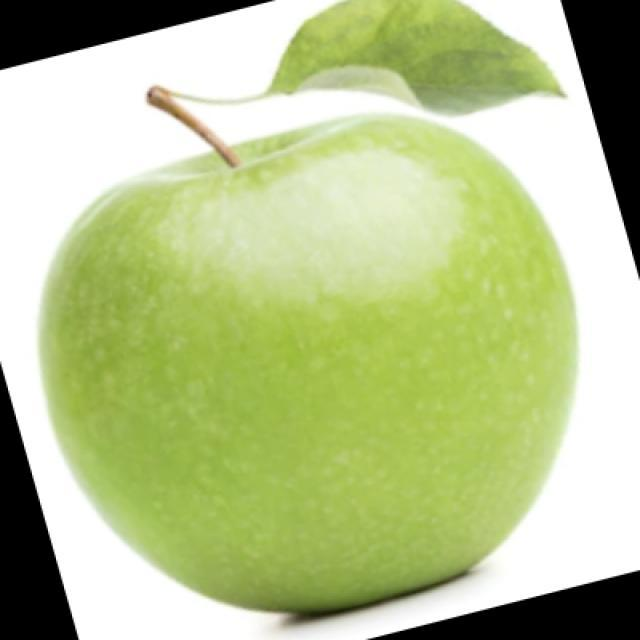Fresh Apple: (85, 119, 552, 624)
